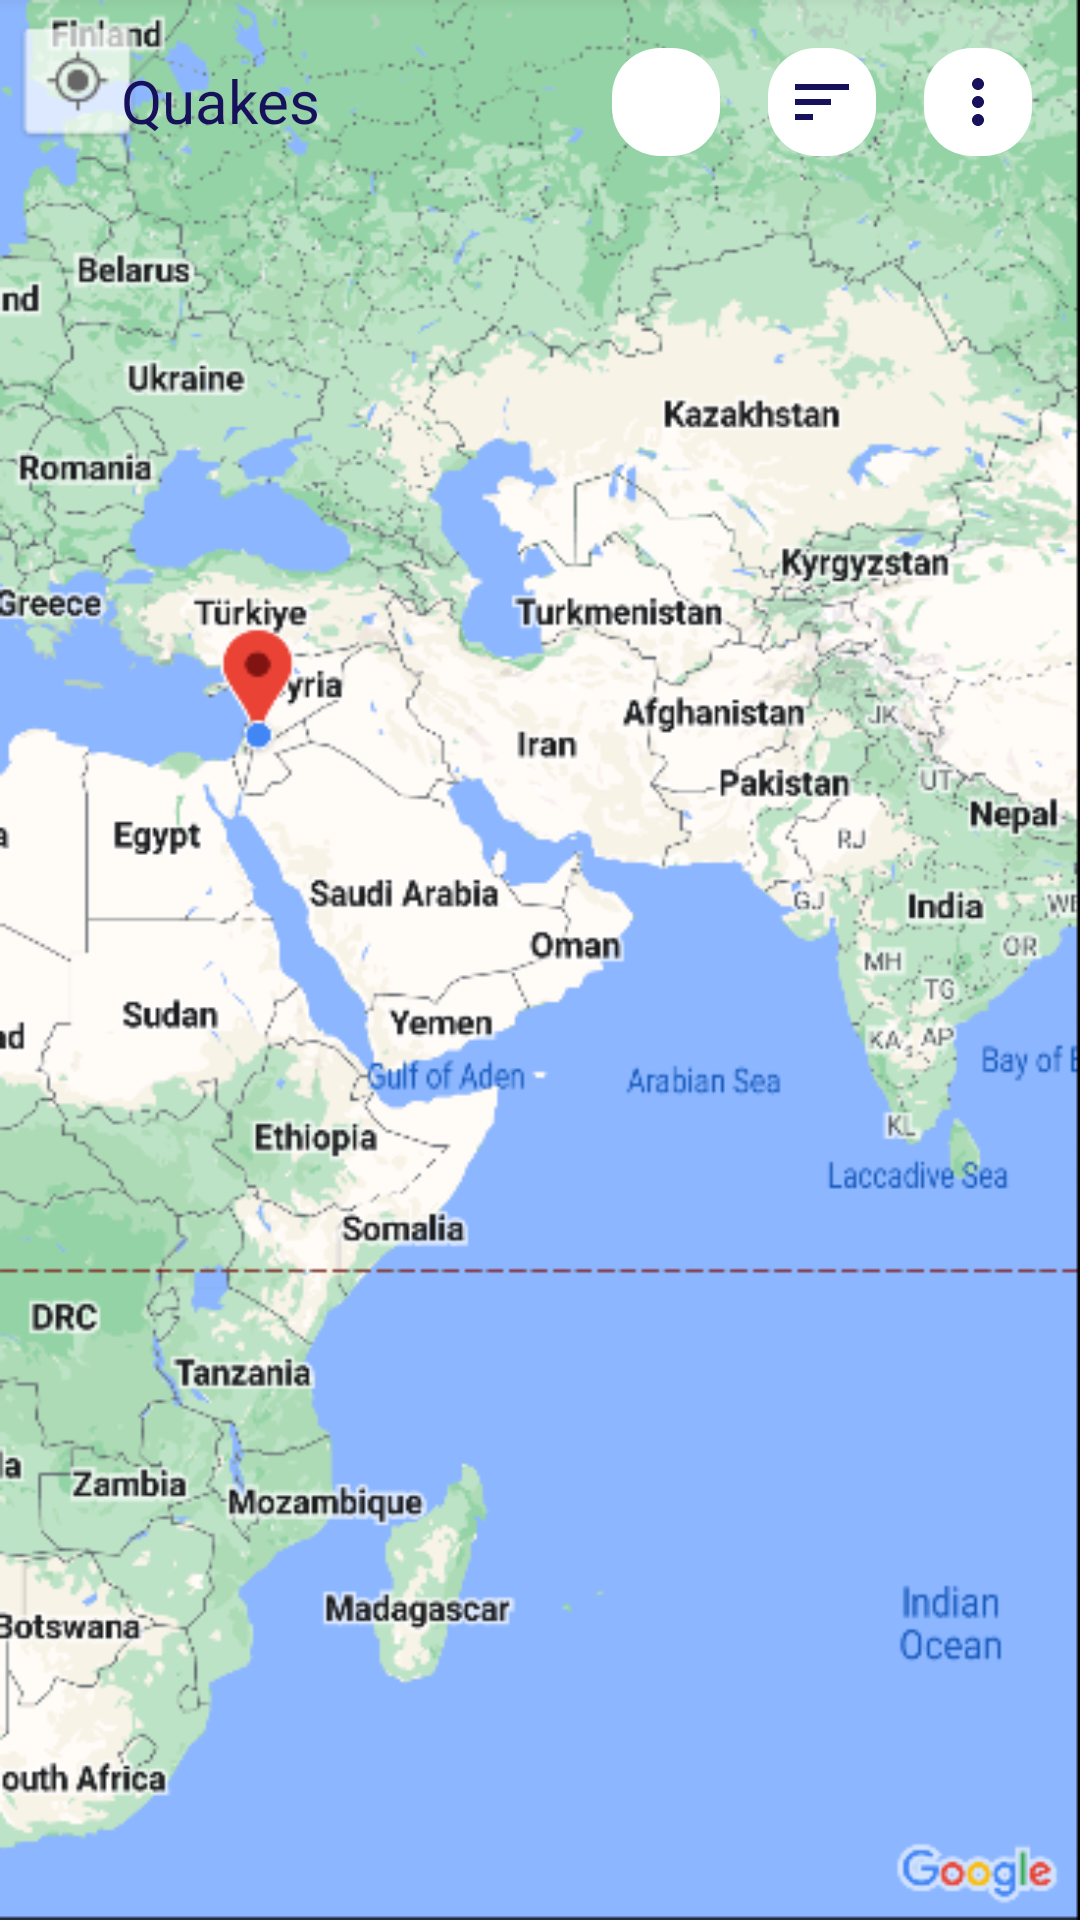

Icon click points for this 1080*1920 phone screenshot, format (x,y):
more: (978,102)
sort: (822,102)
